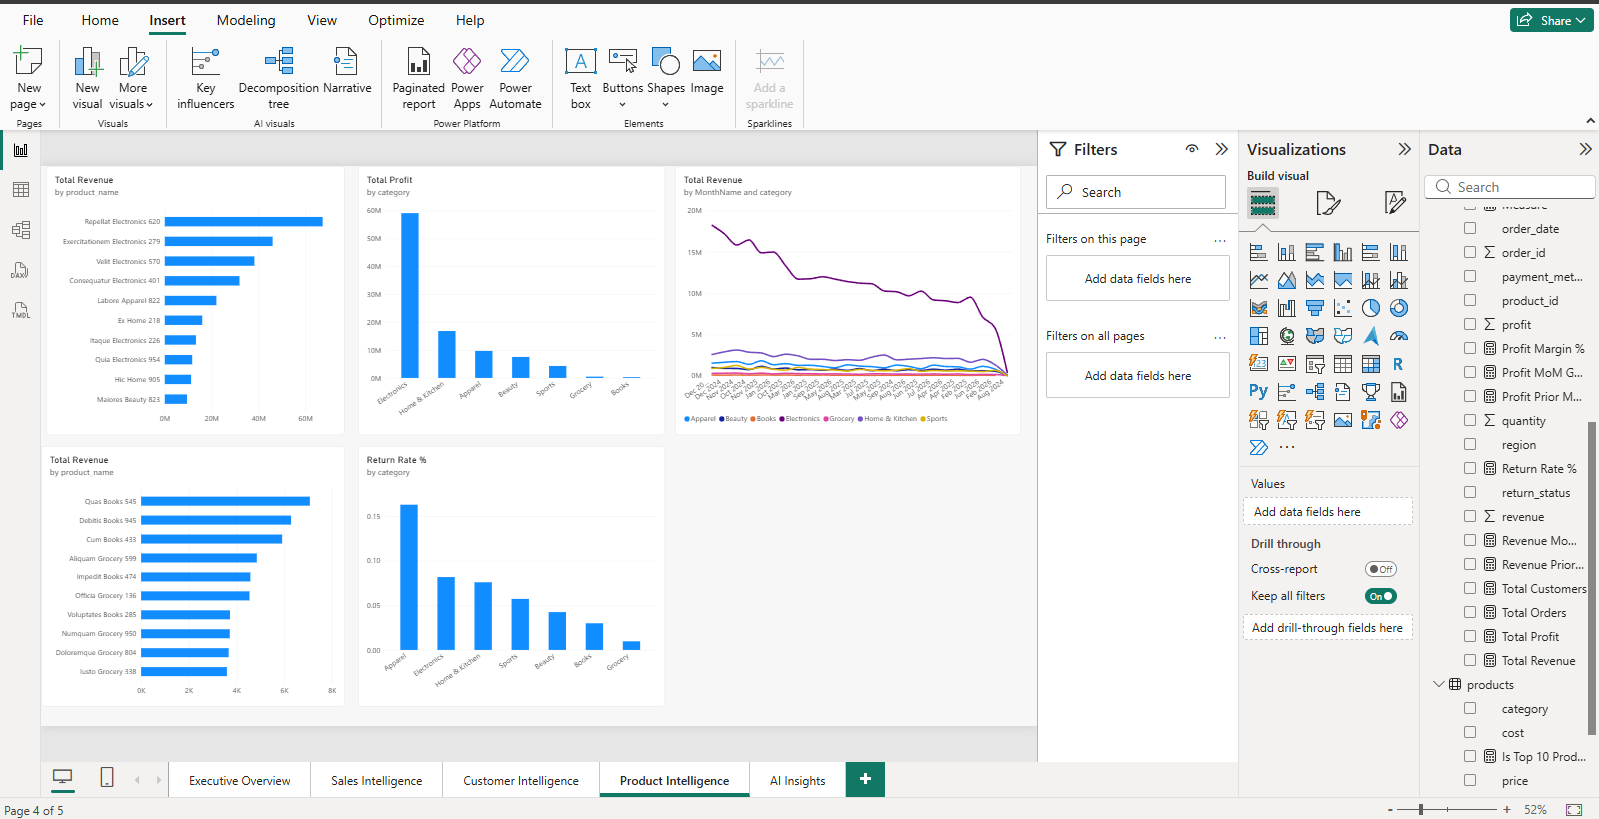

What the dashboard file says about the page in this screenshot:
{"tool":"powerbi","page":{"name":"Product Intelligence","canvas":[1920,1080],"ordinal":3},"visuals":[{"type":"barChart","fields":{"Category":["products.product_name"],"Y":["orders.Total Revenue"]},"box":[10,0,280,280],"z":0},{"type":"barChart","fields":{"Category":["products.product_name"],"Y":["orders.Total Revenue"]},"box":[10,290,280,280],"z":1},{"type":"columnChart","fields":{"Category":["products.category"],"Y":["orders.Total Profit"]},"box":[10,580,280,280],"z":2},{"type":"columnChart","fields":{"Category":["products.category"],"Y":["orders.Return Rate %"]},"box":[10,870,280,210],"z":3},{"type":"lineChart","fields":{"Category":["DateTable.MonthName"],"Series":["products.category"],"Y":["orders.Total Revenue"]},"box":[300,0,280,280],"z":4}]}

Visuals, with their boxes on the page's 1920x1080 design canvas (x1, y1, x2, y2). These are canvas units, not pixel positions in the 1599x819 screenshot, which may show the page scaled, cropped or inside an application window:
barChart - products.product_name x orders.Total Revenue: locate(10, 0, 290, 280)
barChart - products.product_name x orders.Total Revenue: locate(10, 290, 290, 570)
columnChart - products.category x orders.Total Profit: locate(10, 580, 290, 860)
columnChart - products.category x orders.Return Rate %: locate(10, 870, 290, 1080)
lineChart - DateTable.MonthName x products.category: locate(300, 0, 580, 280)
